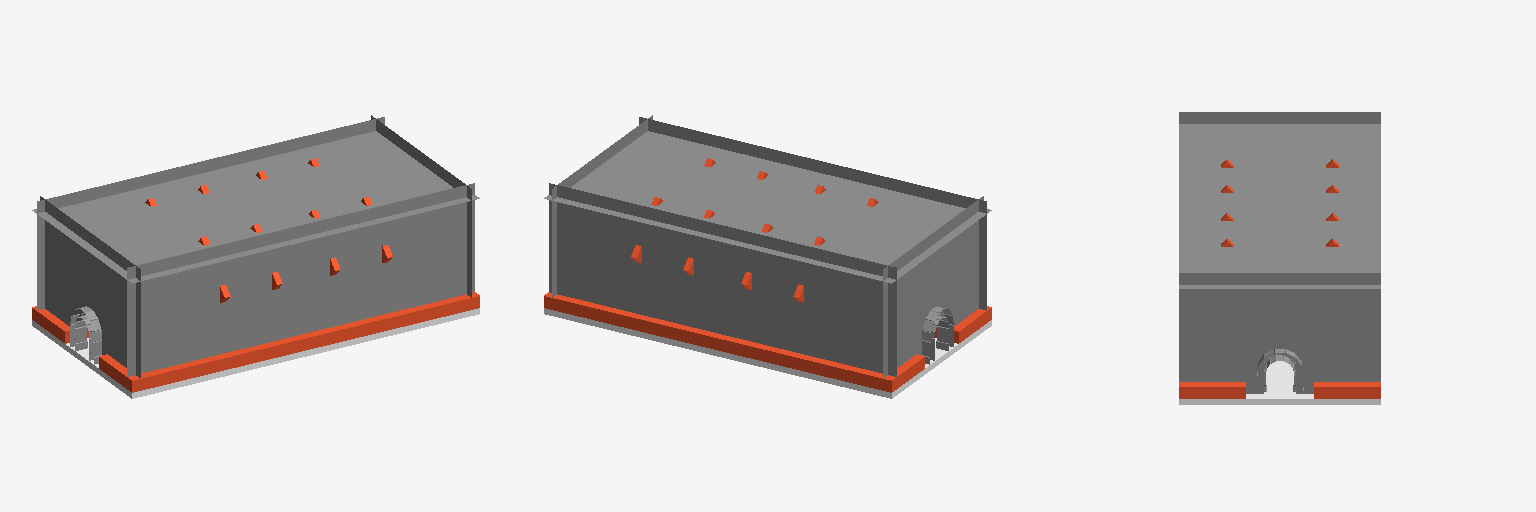
The model's file is bigStraight.obj.
The picture shows the model from 3 angles: view 1: azimuth 30°, elevation 25°; view 2: azimuth 150°, elevation 25°; view 3: azimuth 270°, elevation 25°; orthographic projection.
Visible parts, largest first — view 1: struct_wall_main_half_1, struct_ceiling_11, open_block_12, struct_wall_main_half_2, struct_wall_main_half_10, block_default_0, struct_door_4, struct_wall_main_half_8, struct_wall_main_half_9, struct_wall_main_half_7, open_block_13; view 2: struct_wall_main_half_2, struct_ceiling_11, open_block_13, struct_wall_main_half_1, struct_wall_main_half_10, block_default_0, struct_door_4, struct_wall_main_half_7, struct_wall_main_half_9, struct_wall_main_half_8, open_block_12; view 3: struct_ceiling_11, struct_wall_main_half_9, struct_door_3, struct_wall_main_half_5, struct_wall_main_half_6, struct_wall_main_half_10, block_default_0, open_block_12, open_block_13.
Boxes of the visible parts, x1,y1,x2,y2 form: struct_wall_main_half_1: [127, 183, 474, 376]; struct_ceiling_11: [32, 131, 479, 283]; open_block_12: [99, 292, 479, 392]; struct_wall_main_half_2: [37, 117, 384, 310]; struct_wall_main_half_10: [40, 196, 140, 329]; block_default_0: [32, 308, 479, 398]; struct_door_4: [70, 282, 106, 364]; struct_wall_main_half_8: [45, 260, 73, 325]; struct_wall_main_half_9: [371, 115, 471, 248]; struct_wall_main_half_7: [107, 306, 140, 377]; open_block_13: [32, 306, 88, 343]; struct_wall_main_half_2: [549, 183, 896, 376]; struct_ceiling_11: [544, 131, 991, 283]; open_block_13: [544, 292, 924, 392]; struct_wall_main_half_1: [639, 117, 986, 310]; struct_wall_main_half_10: [883, 196, 983, 329]; block_default_0: [544, 308, 991, 398]; struct_door_4: [917, 282, 953, 364]; struct_wall_main_half_7: [950, 260, 978, 325]; struct_wall_main_half_9: [552, 115, 652, 248]; struct_wall_main_half_8: [883, 306, 916, 377]; open_block_12: [935, 306, 991, 343]; struct_ceiling_11: [1179, 124, 1380, 288]; struct_wall_main_half_9: [1179, 273, 1380, 333]; struct_door_3: [1246, 334, 1313, 393]; struct_wall_main_half_5: [1314, 334, 1380, 381]; struct_wall_main_half_6: [1179, 334, 1245, 381]; struct_wall_main_half_10: [1179, 112, 1380, 123]; block_default_0: [1179, 361, 1380, 404]; open_block_12: [1179, 382, 1245, 398]; open_block_13: [1314, 382, 1380, 398].
Size of the model in its own units: 6 by 2.1 by 3.